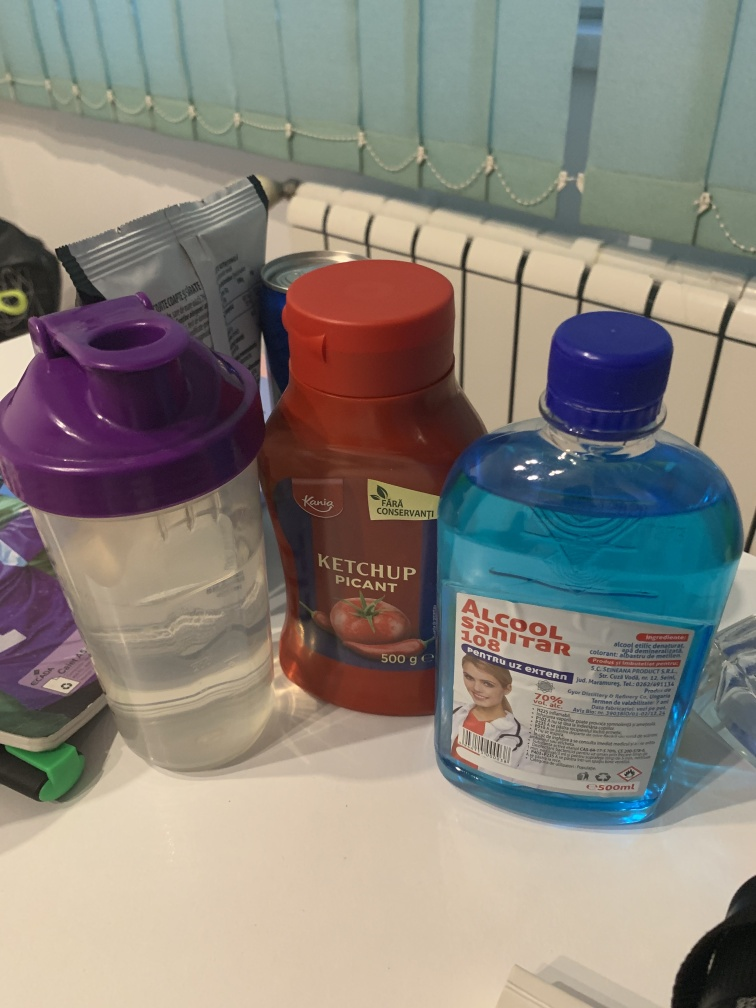ketchup: (254, 255, 497, 745)
